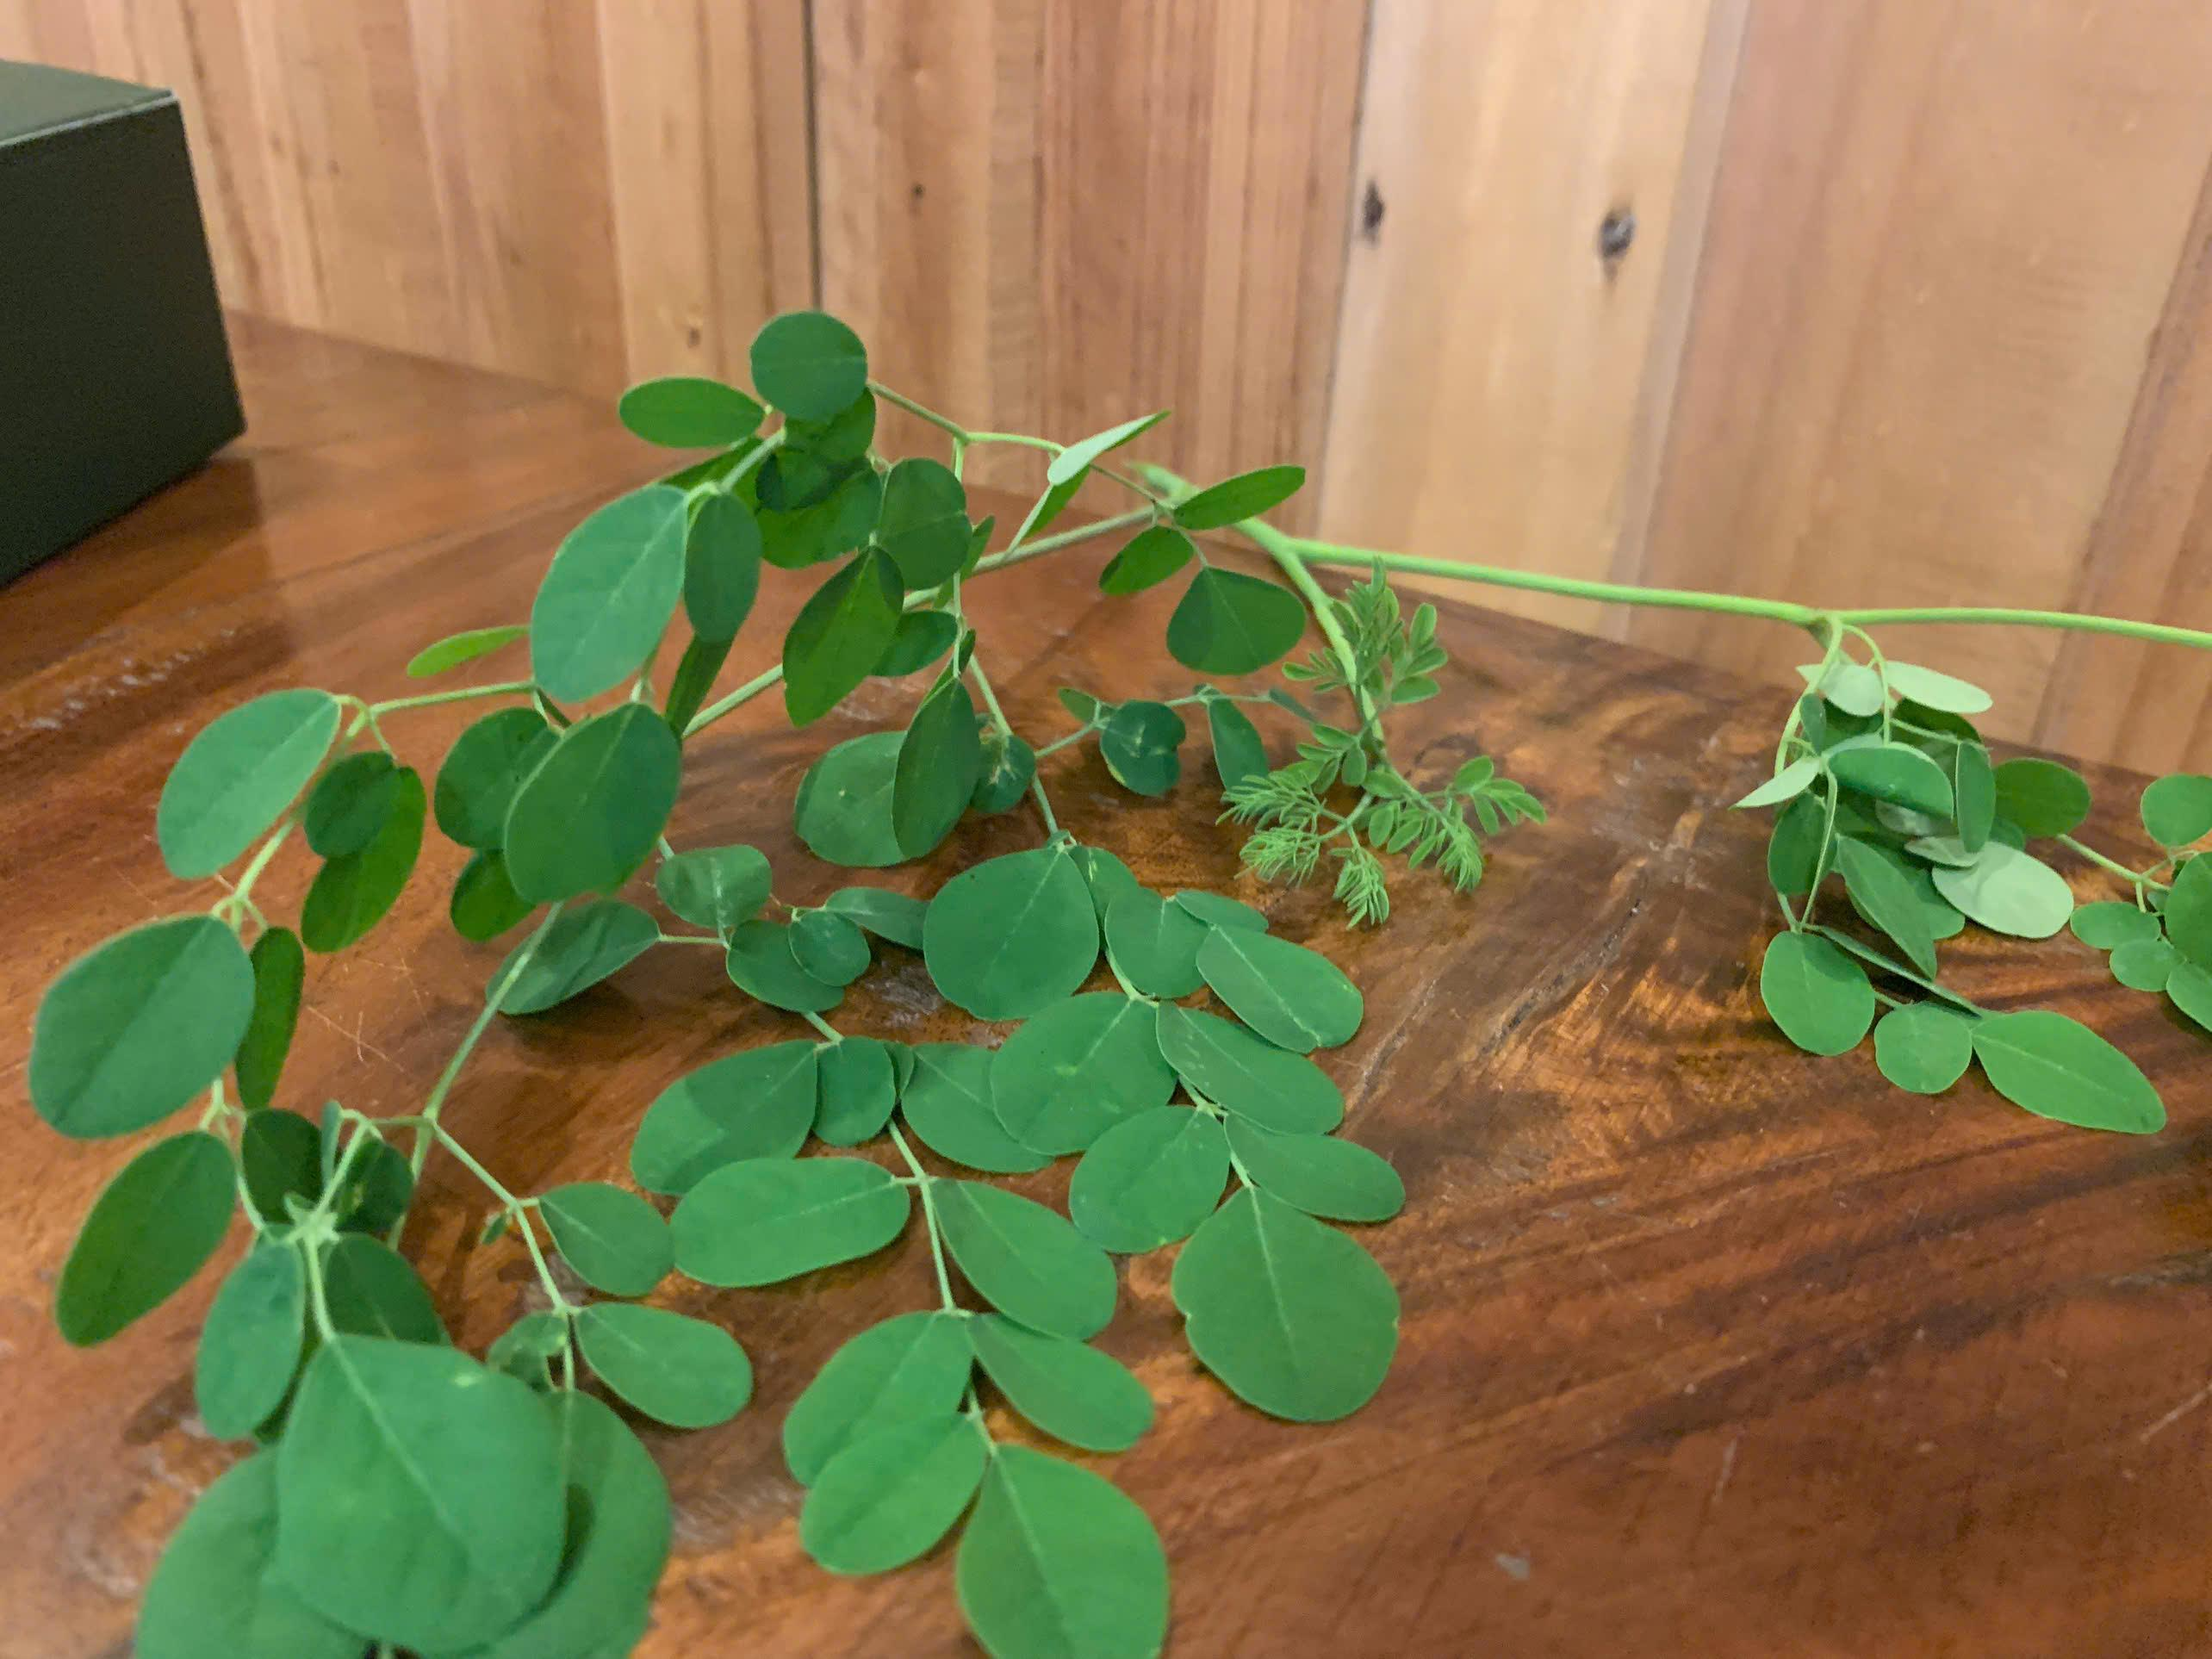Huu co: (92, 319, 2189, 1131)
